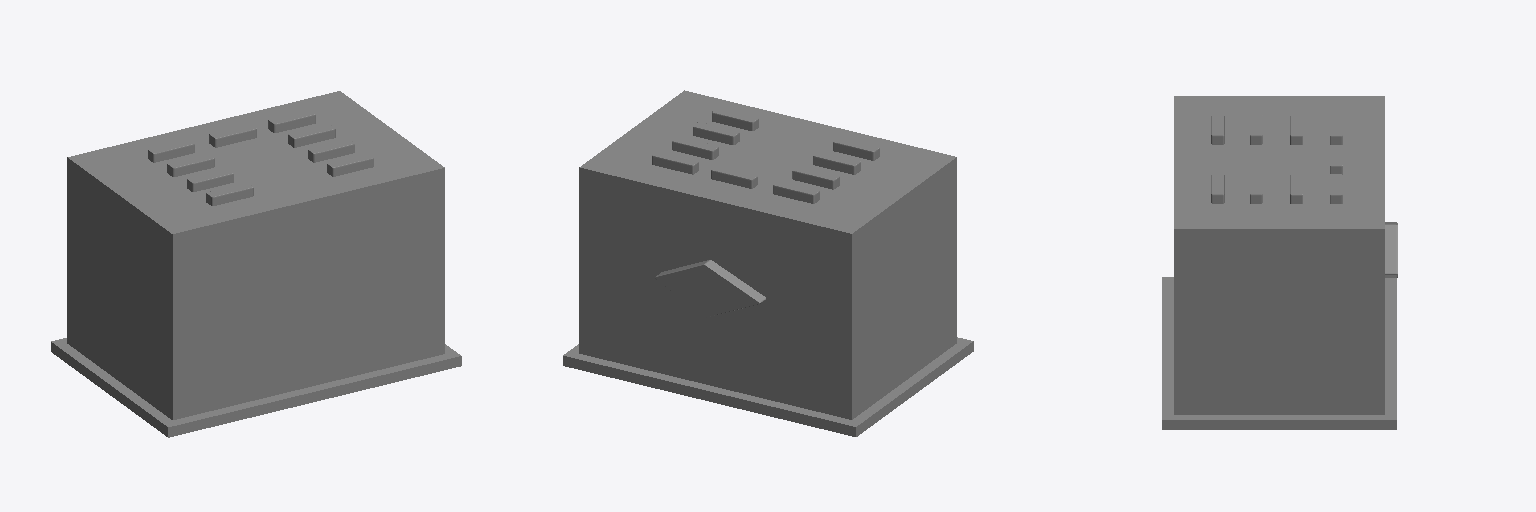
The model's file is Distributionbox.obj.
The picture shows the model from 3 angles: view 1: azimuth 30°, elevation 25°; view 2: azimuth 150°, elevation 25°; view 3: azimuth 270°, elevation 25°; orthographic projection.
Visible parts, largest first — view 1: Object201; view 2: Object201; view 3: Object201.
Part boxes in pixels (bbox=[...]): Object201: bbox=[51, 91, 461, 437]; Object201: bbox=[563, 90, 973, 436]; Object201: bbox=[1162, 96, 1397, 429].
Bounding box in the file's own units: 34.46 × 23.1 × 23.99.